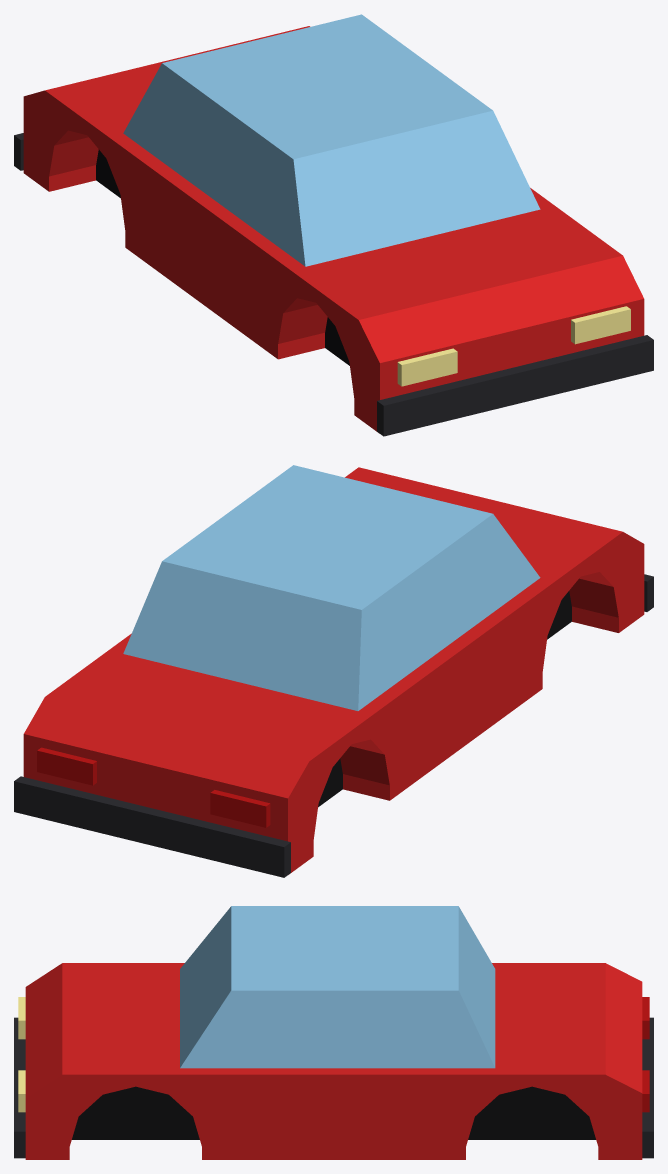
File: LowPolyCar_Body.obj
The picture shows the model from 3 angles, top to bottom: view 1: azimuth 30°, elevation 25°; view 2: azimuth 150°, elevation 25°; view 3: azimuth 270°, elevation 25°; orthographic projection. The views are drawn at different scales.
Visible parts, largest first — view 1: Body, Cabin, Bumper, Light, Well; view 2: Body, Cabin, Bumper, Tail, Well; view 3: Body, Cabin, Well, Bumper, Light, Tail.
Part boxes in pixels (x1,y1,x2,y2): Body: [23, 26, 644, 433]; Cabin: [123, 14, 540, 266]; Bumper: [14, 133, 653, 436]; Light: [397, 306, 630, 386]; Well: [96, 149, 349, 365]; Body: [23, 467, 644, 874]; Cabin: [123, 465, 540, 710]; Bumper: [14, 574, 653, 877]; Tail: [37, 747, 270, 827]; Well: [318, 591, 571, 807]; Body: [25, 963, 642, 1159]; Cabin: [180, 906, 495, 1068]; Well: [72, 1086, 595, 1139]; Bumper: [14, 1017, 653, 1158]; Light: [18, 997, 25, 1112]; Tail: [642, 997, 649, 1112].
Size of the model in its own units: 1.84 by 1.17 by 4.36.
